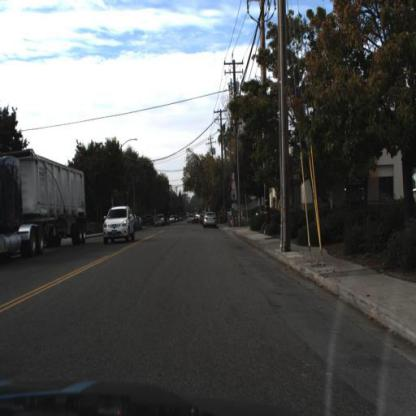car: (100, 201, 137, 245), (202, 210, 220, 230), (152, 214, 164, 228)
truck: (0, 153, 89, 260)
